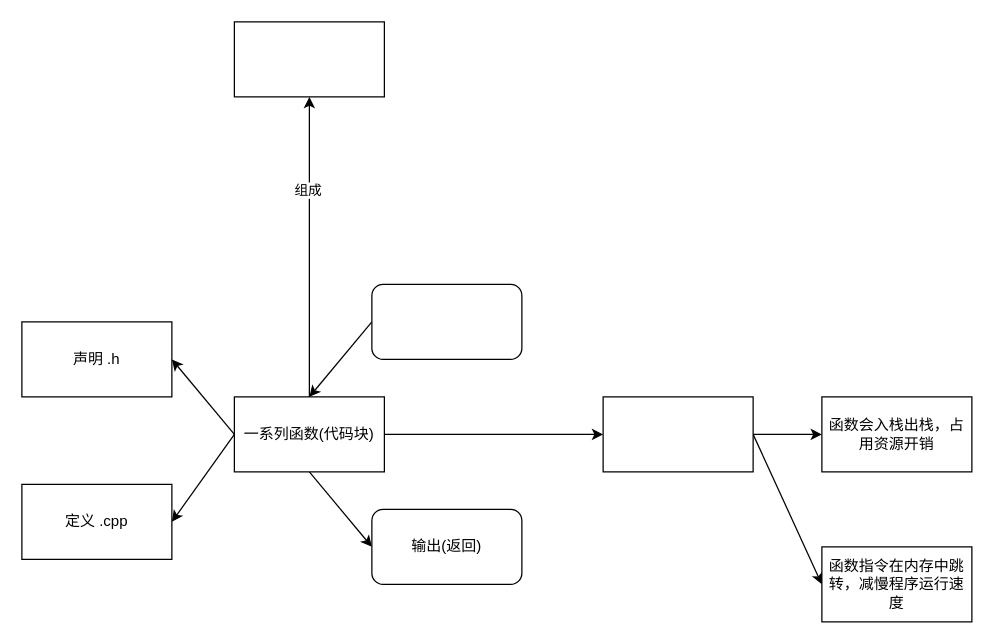
The diagram is 994 pixels wide and 644 high, and some of its shapes have lost their labels. Each missing label, with the box of its shape:
函数不是越多越好: (602, 396, 753, 472)
程序: (233, 21, 384, 97)
输入(输入): (371, 283, 522, 359)
